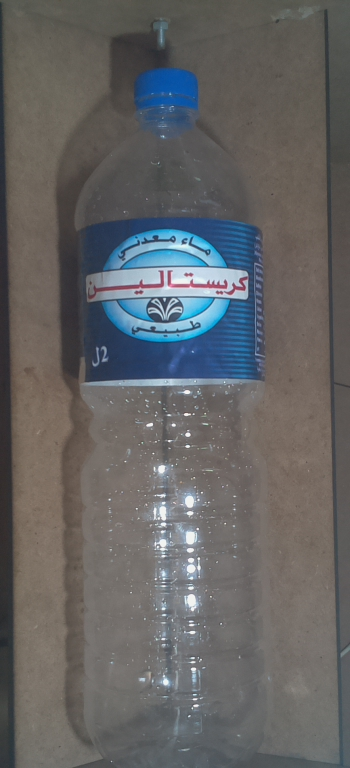Bouteille_2L: (70, 66, 281, 768)
